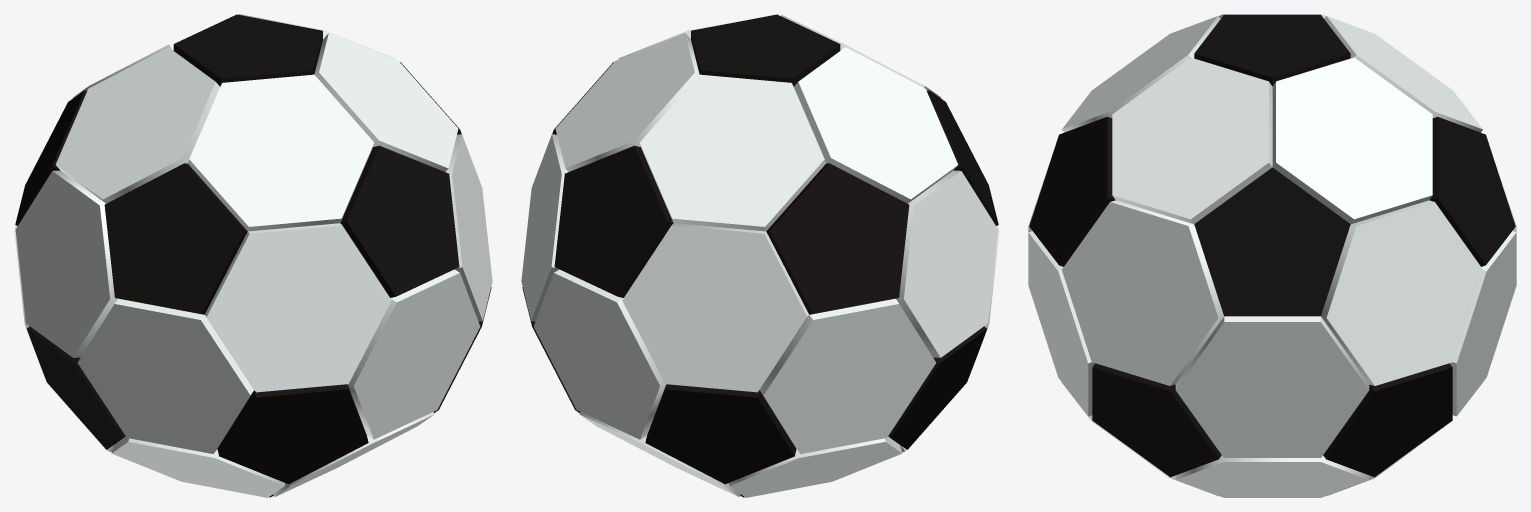
Rendered from Ball.fbx.
3 renders of one model, left to right at view 1: azimuth 30°, elevation 25°; view 2: azimuth 150°, elevation 25°; view 3: azimuth 270°, elevation 25°, orthographic. The views are drawn at different scales.
Visible parts, largest first — view 1: Icosphere; view 2: Icosphere; view 3: Icosphere.
Boxes of the visible parts, x1,y1,x2,y2 form: Icosphere: (14, 14, 492, 497); Icosphere: (521, 14, 999, 497); Icosphere: (1028, 14, 1516, 497).
Bounding box in the file's own units: 183 × 178 × 185.
